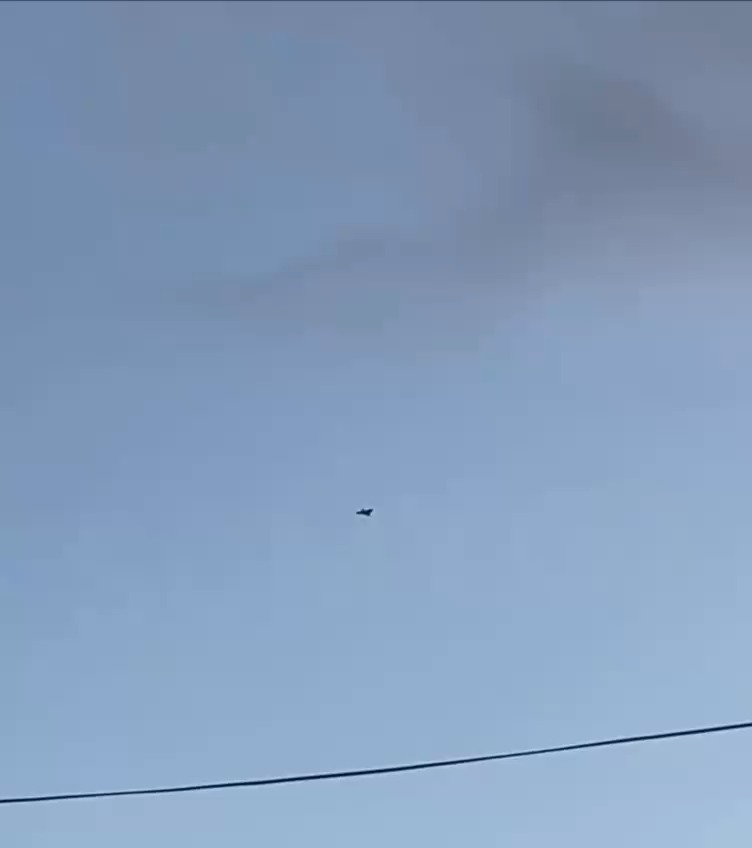shahed: (353, 506, 375, 520)
